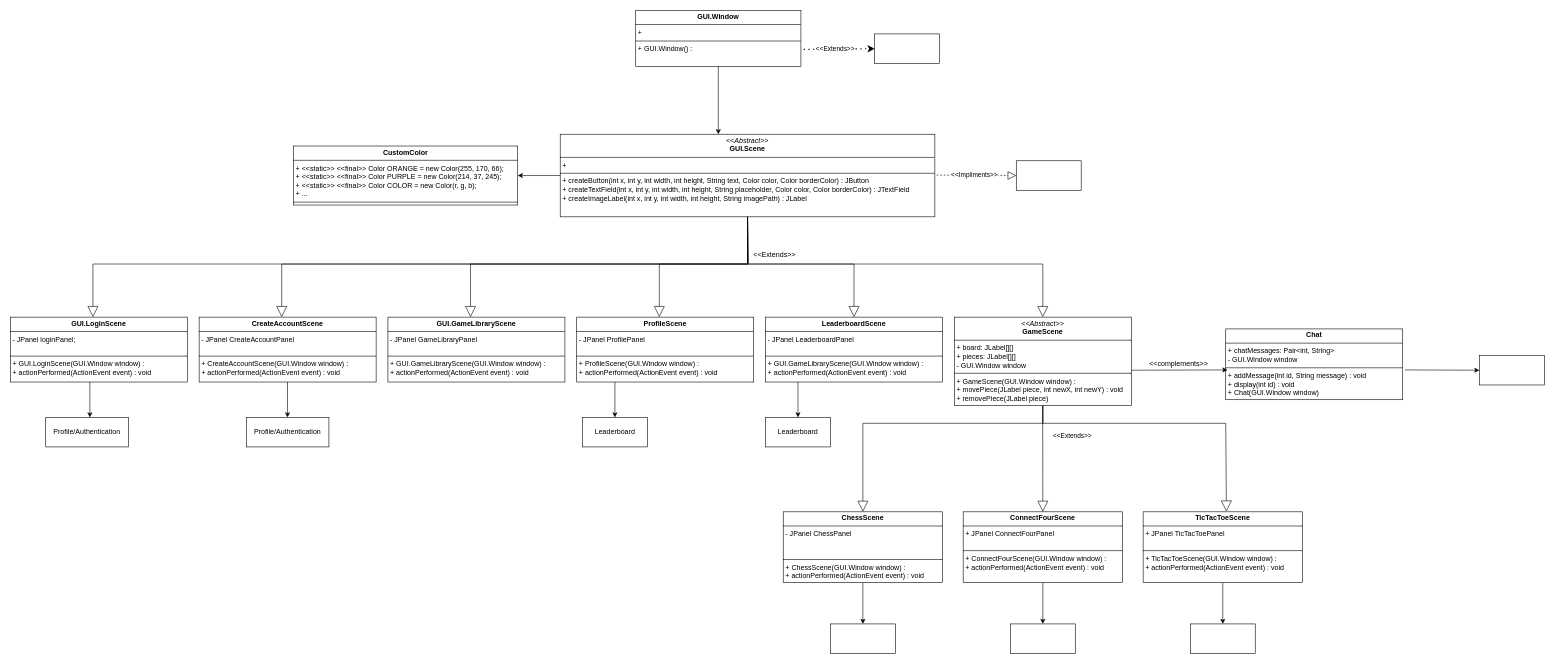
The diagram is 1555 pixels wide and 664 high, and some of its shapes have lost their labels. Each missing label, with the centre of its shape:
"ActionListener" belongs at pixel 1048 175.
"Chess" belongs at pixel 862 638.
"ConnectFour" belongs at pixel 1042 638.
"JFrame" belongs at pixel 907 48.
"Network" belongs at pixel 1511 370.
"TicTacToe" belongs at pixel 1222 638.
